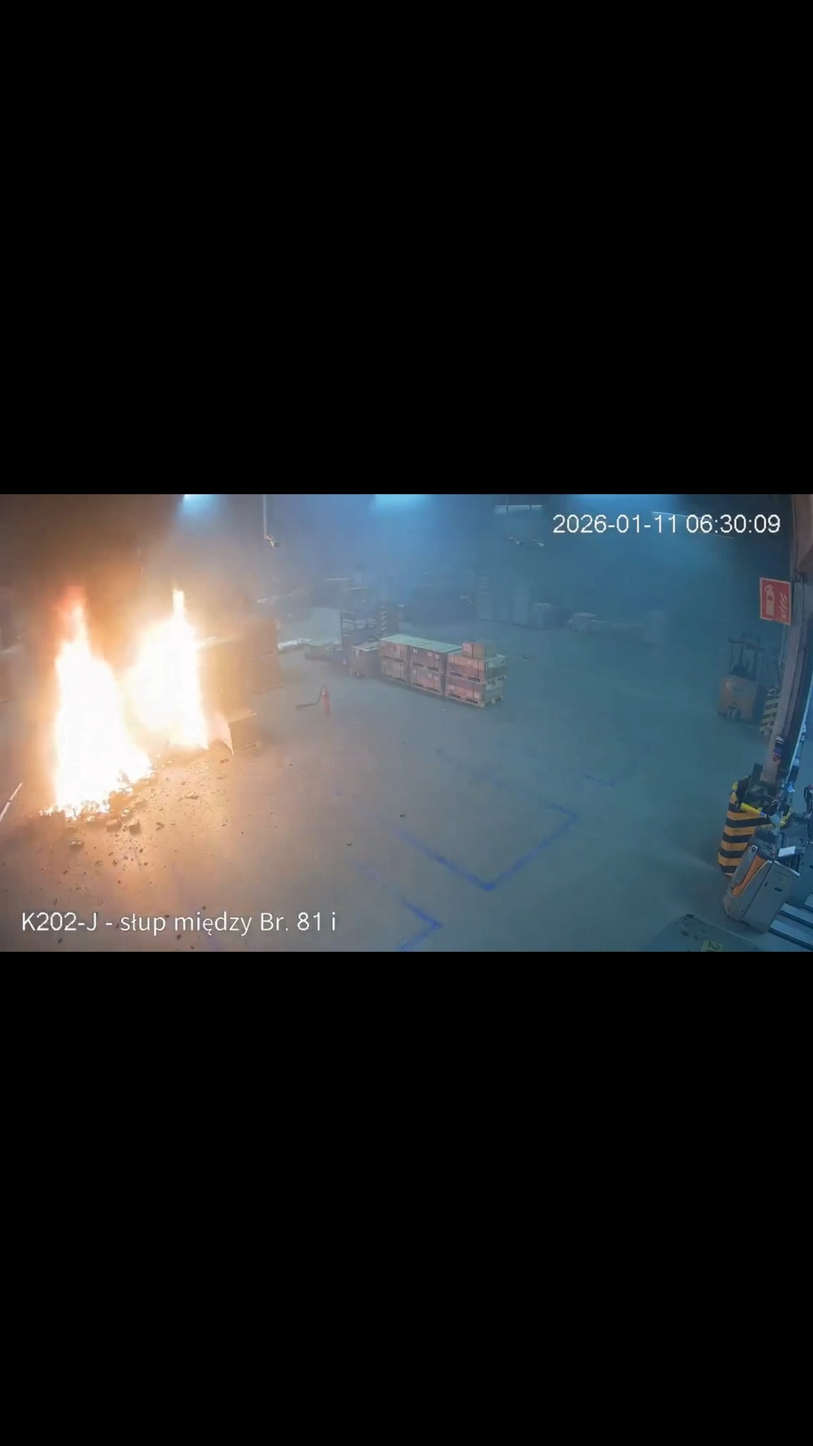fire: (41, 589, 236, 825)
smoke: (1, 496, 316, 658)
